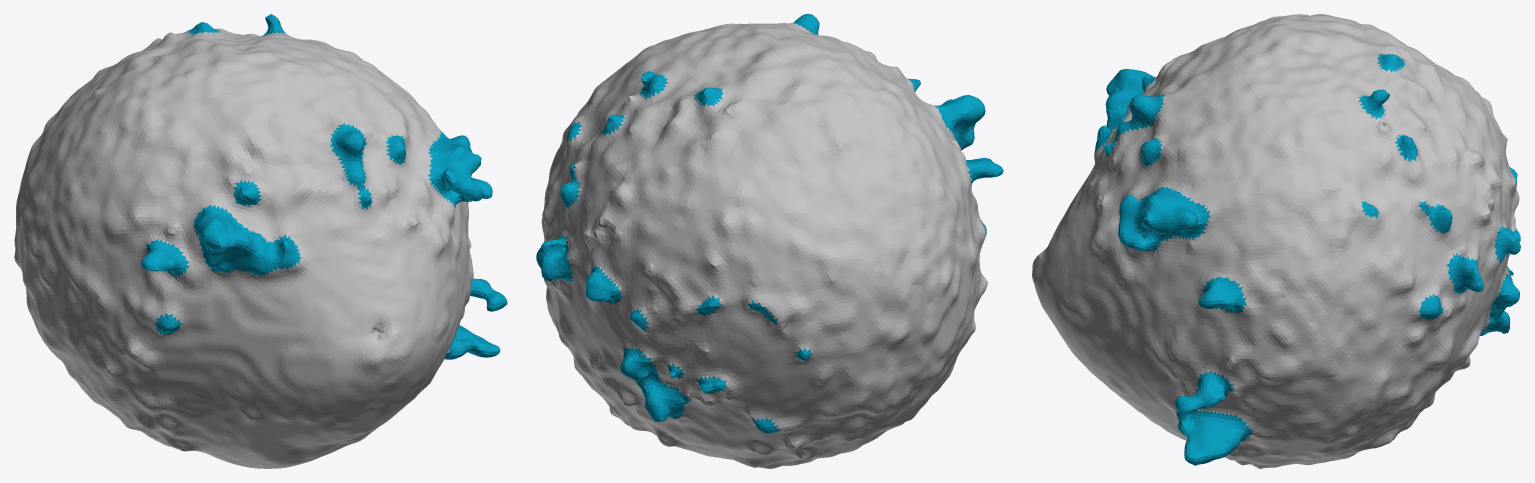
3 renders of one model, left to right at view 1: azimuth 30°, elevation 25°; view 2: azimuth 150°, elevation 25°; view 3: azimuth 270°, elevation 25°, orthographic. The views are drawn at different scales.
Bounding box in the file's own units: 94.5 × 90.98 × 97.69.
